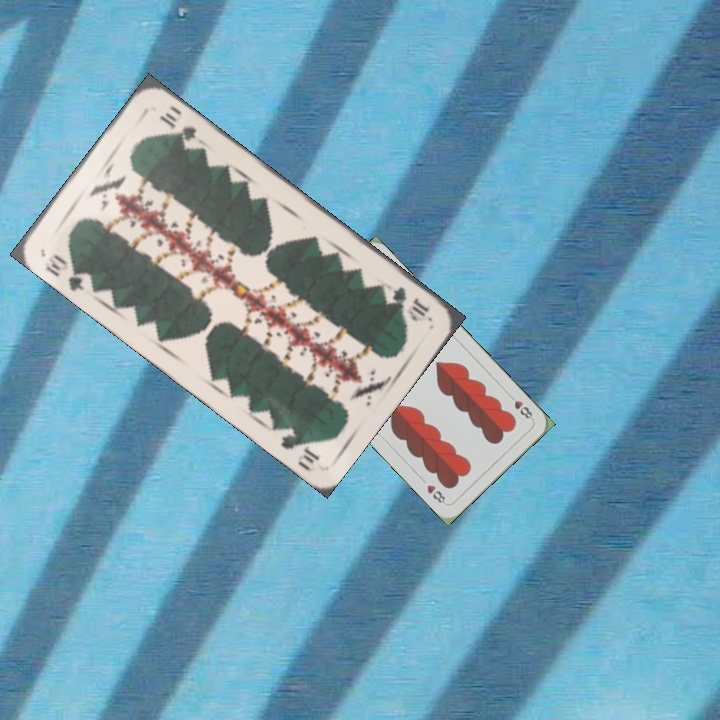G10: (40, 250, 95, 294), (388, 282, 432, 321)
H8: (504, 390, 536, 423)
